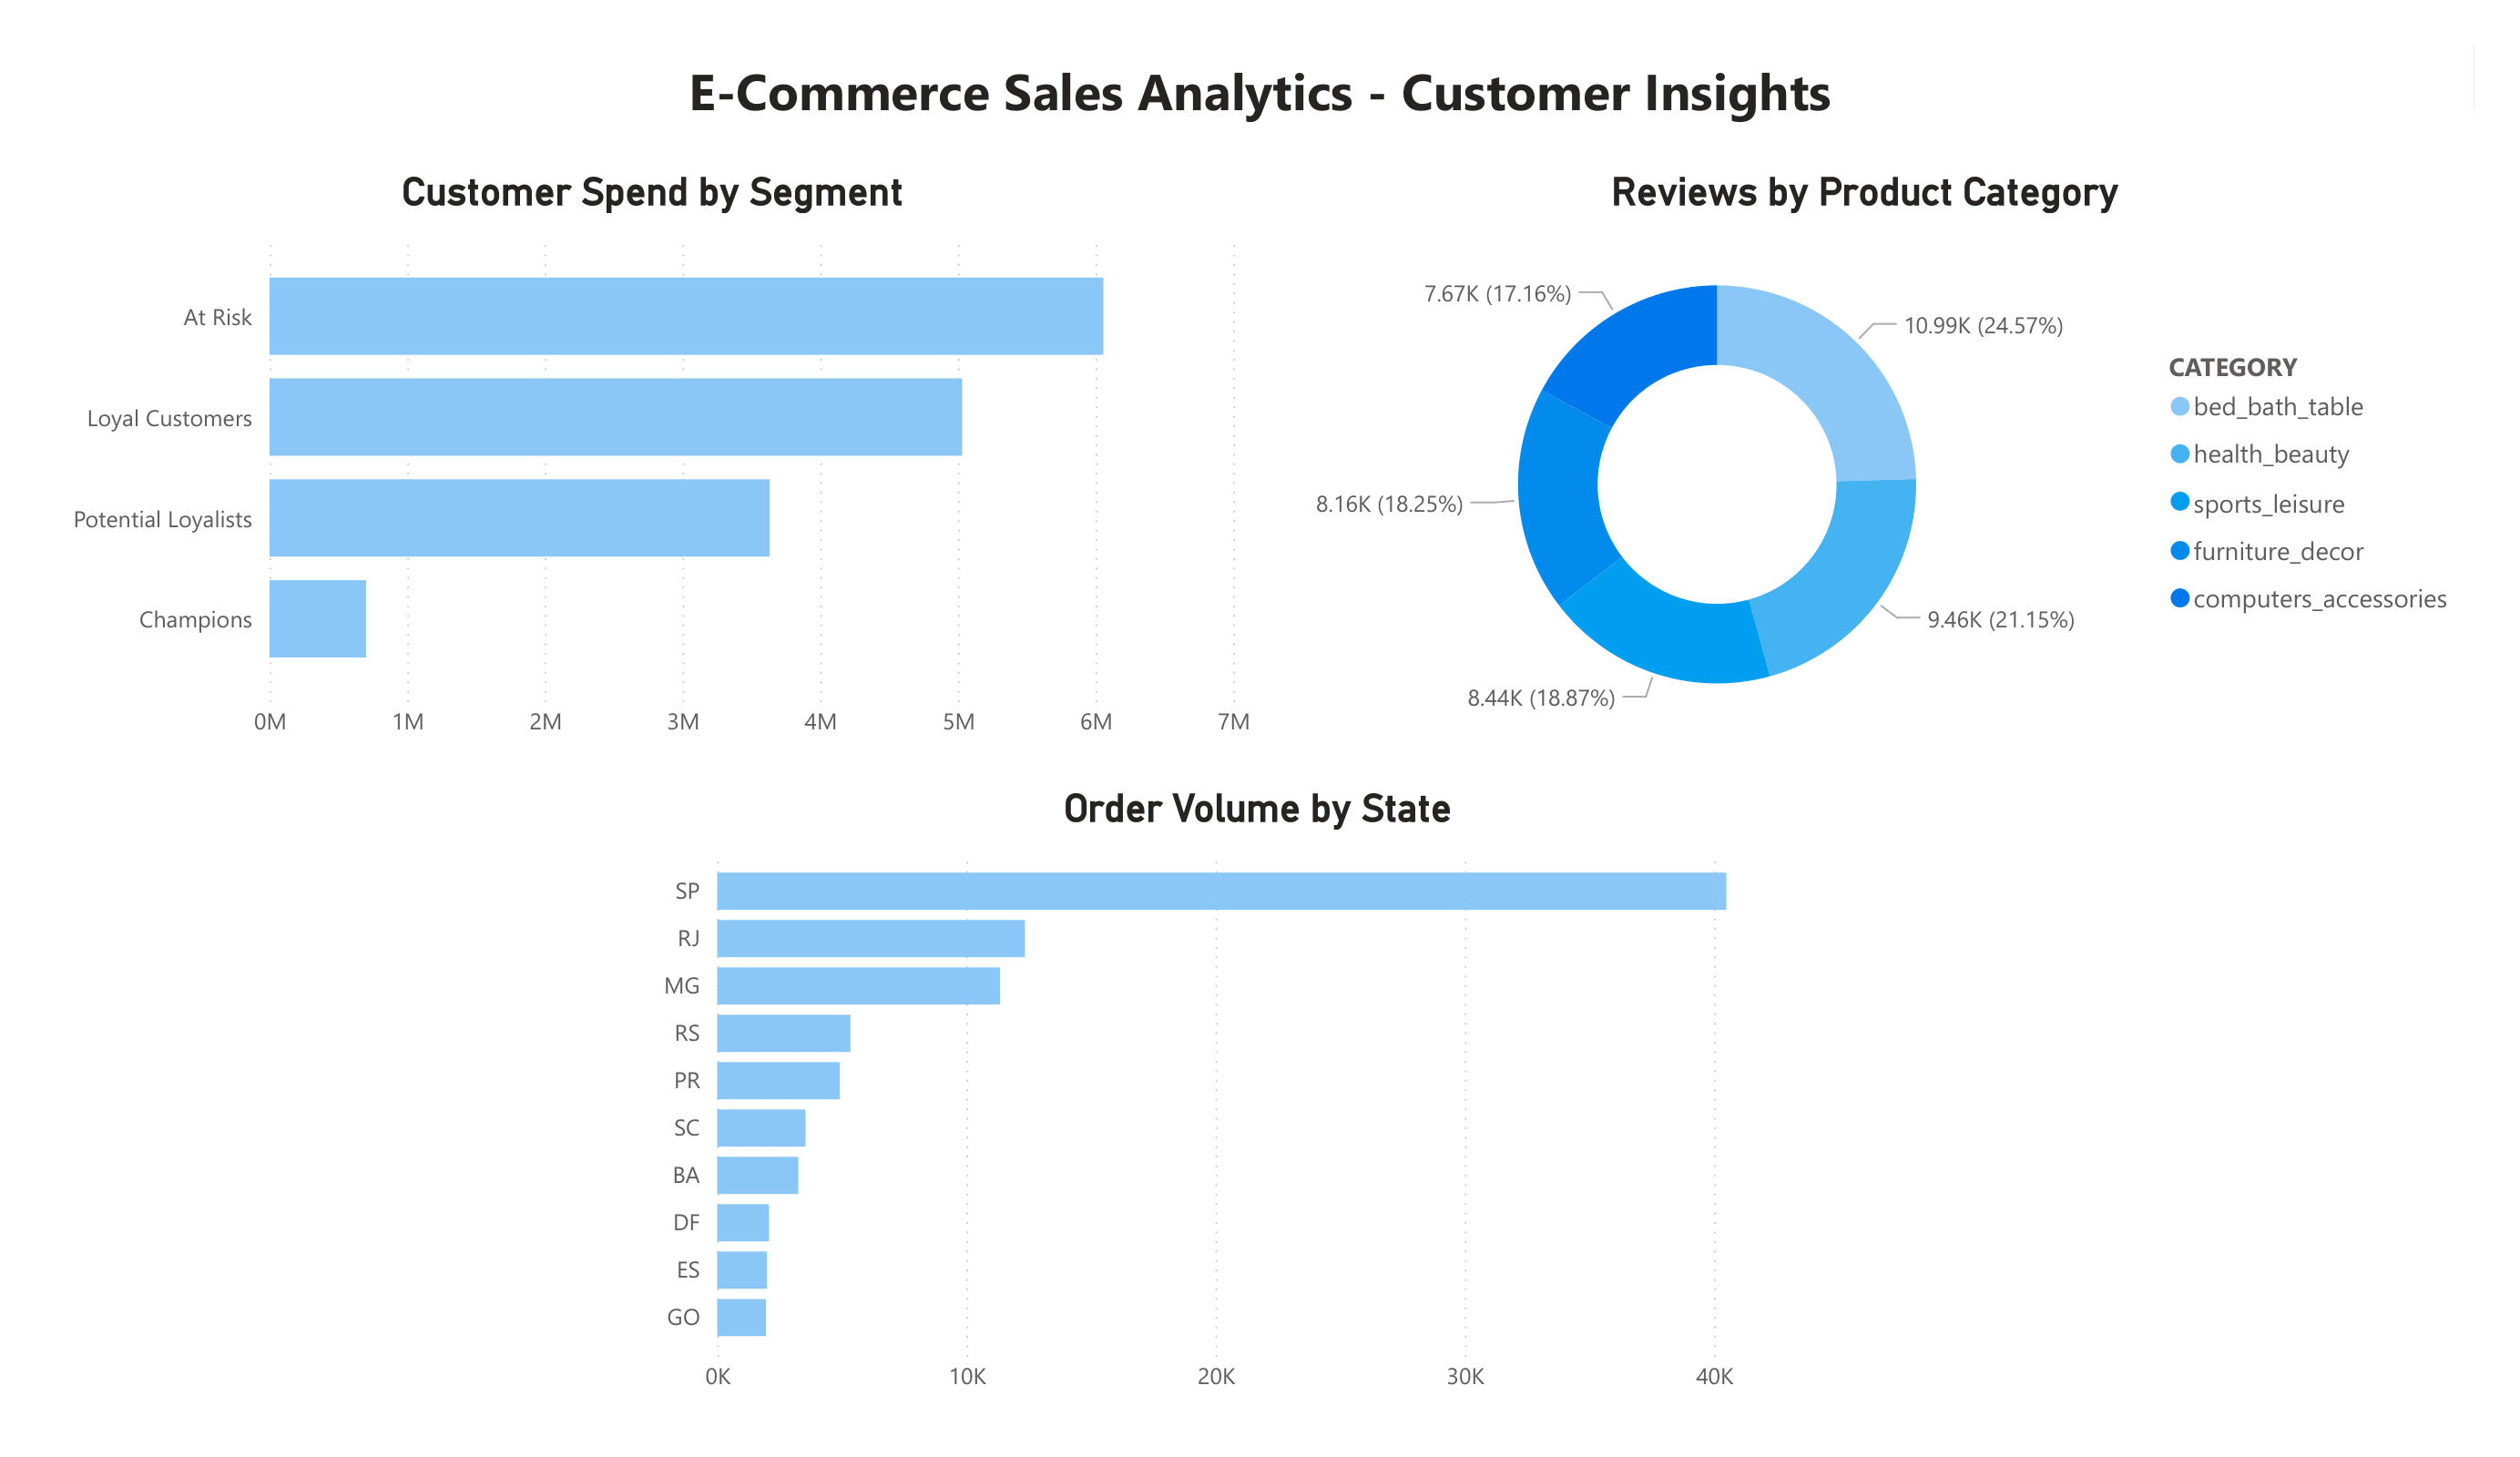

The page's visual inventory and layout, read from the dashboard file:
{"tool":"powerbi","page":{"name":"Customer Insights","canvas":[1280,720],"ordinal":1},"visuals":[{"type":"clusteredBarChart","title":"Customer Spend by Segment","fields":{"Category":["MART_CUSTOMER_LTV.CUSTOMER_SEGMENT"],"Y":["Sum(MART_CUSTOMER_LTV.TOTAL_SPENT)"]},"box":[0,65,640,310],"z":0},{"type":"donutChart","title":"Reviews by Product Category","fields":{"Category":["MART_PRODUCT_PERFORMANCE.CATEGORY"],"Y":["Sum(MART_PRODUCT_PERFORMANCE.TOTAL_REVIEWS)"]},"box":[638.3,65,641.7,310],"z":1000},{"type":"clusteredBarChart","title":"Order Volume by State","fields":{"Category":["MART_DELIVERY_ANALYSIS.CUSTOMER_STATE"],"Y":["Sum(MART_DELIVERY_ANALYSIS.TOTAL_ORDERS)"]},"box":[318.3,390,641.7,330],"z":2000},{"type":"textbox","box":[0,0,1280,51.7],"z":3000}]}

Visuals, with their boxes on the page's 1280x720 design canvas (x1, y1, x2, y2). These are canvas units, not pixel positions in the 2520x1457 screenshot, which may show the page scaled, cropped or inside an application window:
"Customer Spend by Segment" clusteredBarChart: (0,65,640,375)
"Reviews by Product Category" donutChart: (638,65,1280,375)
"Order Volume by State" clusteredBarChart: (318,390,960,720)
textbox: (0,0,1280,52)
